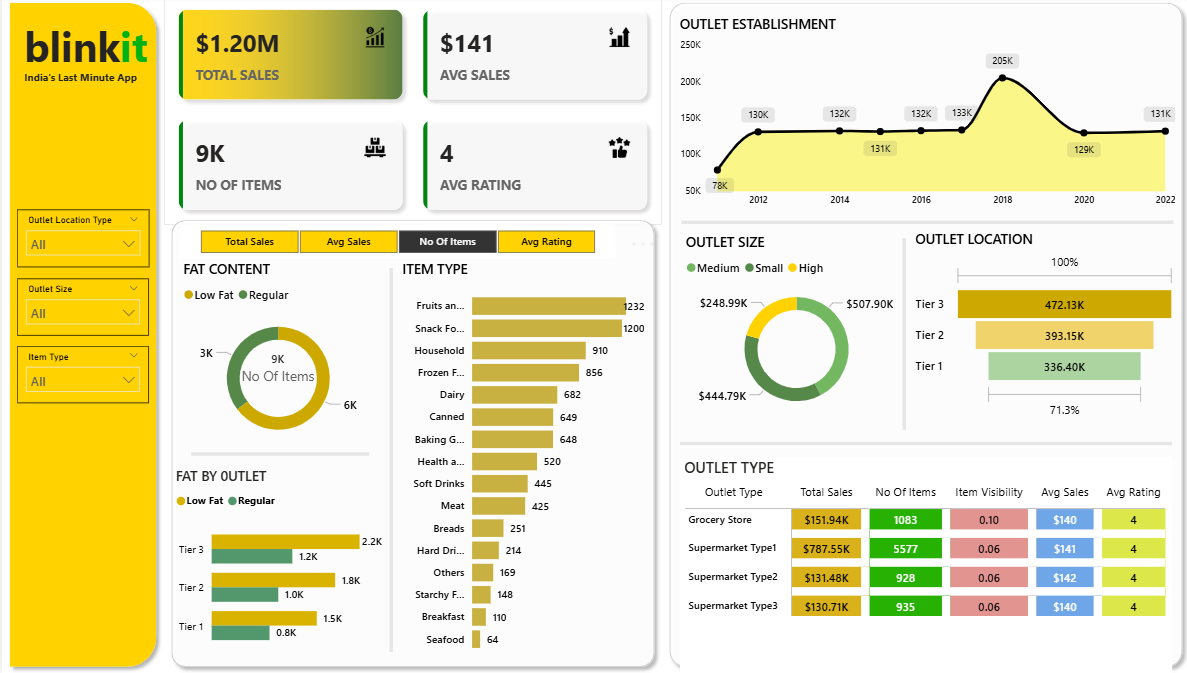

Layout of this report page (visuals, bound fields, positions):
{"tool":"powerbi","page":{"name":"Page 1","canvas":[1400,800],"ordinal":0},"visuals":[{"type":"shape","box":[0,0,190.9,800.6],"z":0},{"type":"textbox","box":[21.2,21.2,201.5,86.6],"z":1000},{"type":"textbox","box":[21.2,81.3,155.5,42.4],"z":2000},{"type":"cardVisual","fields":{"Data":["BlinkIT Grocery Data.Total Sales","BlinkIT Grocery Data.Avg Sales","BlinkIT Grocery Data.No Of Items","BlinkIT Grocery Data.Avg Rating"]},"box":[190.9,0,586.8,270.4],"z":3000},{"type":"shape","box":[190.9,256.3,586.8,544.3],"z":4000},{"type":"donutChart","title":"FAT CONTENT","fields":{"Y":["BlinkIT Grocery Data.No Of Items"],"Category":["BlinkIT Grocery Data.Item Fat Content"]},"box":[208.5,311.1,233.3,229.8],"z":5000},{"type":"slicer","fields":{"Values":["Metrics.Metrics"]},"box":[208.5,270.4,514.3,40.6],"z":6000},{"type":"cardVisual","fields":{"Data":["BlinkIT Grocery Data.No Of Items"]},"box":[258,401.2,134.3,67.2],"z":7000},{"type":"clusteredBarChart","title":"FAT  BY 0UTLET","fields":{"Y":["BlinkIT Grocery Data.No Of Items"],"Category":["BlinkIT Grocery Data.Outlet Location Type"],"Series":["BlinkIT Grocery Data.Item Fat Content"]},"box":[199.7,554.9,252.7,229.8],"z":8000},{"type":"shape","box":[222.7,519.6,210.3,42.4],"z":9000},{"type":"shape","box":[433,321.7,51.3,452.4],"z":10000},{"type":"barChart","title":"ITEM TYPE","fields":{"Y":["BlinkIT Grocery Data.No Of Items"],"Category":["BlinkIT Grocery Data.Item Type"]},"box":[466.6,311.1,295.1,473.6],"z":11000},{"type":"shape","box":[777.6,0,622.1,800.6],"z":12000},{"type":"lineChart","title":"OUTLET ESTABLISHMENT","fields":{"Category":["BlinkIT Grocery Data.Outlet Establishment Year"],"Y":["Sum(BlinkIT Grocery Data.Sales)"]},"box":[793.5,23,593.8,235.1],"z":13000},{"type":"shape","box":[800.6,256.3,579.7,23],"z":14000},{"type":"donutChart","title":"OUTLET SIZE","fields":{"Category":["BlinkIT Grocery Data.Outlet Size"],"Y":["BlinkIT Grocery Data.Total Sales"]},"box":[800.6,279.2,270.4,224.5],"z":15000},{"type":"shape","box":[1037.4,286.3,51.3,226.2],"z":16000},{"type":"funnel","title":"OUTLET LOCATION","fields":{"Y":["Sum(BlinkIT Grocery Data.Sales)"],"Category":["BlinkIT Grocery Data.Outlet Location Type"]},"box":[1071,275.7,316.4,228],"z":17000},{"type":"shape","box":[798.8,507.2,579.7,42.4],"z":18000},{"type":"pivotTable","title":"OUTLET TYPE","fields":{"Rows":["BlinkIT Grocery Data.Outlet Type"],"Values":["BlinkIT Grocery Data.Total Sales","BlinkIT Grocery Data.No Of Items","Avg(BlinkIT Grocery Data.Item Visibility)","BlinkIT Grocery Data.Avg Sales","BlinkIT Grocery Data.Avg Rating"]},"box":[798.8,544.3,579.7,256.3],"z":19000},{"type":"slicer","fields":{"Values":["BlinkIT Grocery Data.Outlet Location Type"]},"box":[18.2,253.4,155.7,67.9],"z":20000},{"type":"slicer","fields":{"Values":["BlinkIT Grocery Data.Outlet Size"]},"box":[17.7,334,155.5,67.2],"z":21000},{"type":"slicer","fields":{"Values":["BlinkIT Grocery Data.Item Type"]},"box":[17.7,413.6,155.5,67.2],"z":22000}]}

Visuals, with their boxes in screenshot pixels (x1, y1, x2, y2), scaled from the page's 1400x800 canvas onto the 1187x673 screenshot:
shape: (0, 0, 162, 672)
textbox: (18, 18, 189, 91)
textbox: (18, 68, 150, 104)
cardVisual - BlinkIT Grocery Data.Total Sales x BlinkIT Grocery Data.Avg Sales: (162, 0, 659, 227)
shape: (162, 216, 659, 672)
"FAT CONTENT" donutChart: (177, 262, 375, 455)
slicer - Metrics.Metrics: (177, 227, 613, 262)
cardVisual - BlinkIT Grocery Data.No Of Items: (219, 338, 333, 394)
"FAT  BY 0UTLET" clusteredBarChart: (169, 467, 384, 660)
shape: (189, 437, 367, 473)
shape: (367, 271, 411, 651)
"ITEM TYPE" barChart: (396, 262, 646, 660)
shape: (659, 0, 1186, 672)
"OUTLET ESTABLISHMENT" lineChart: (673, 19, 1176, 217)
shape: (679, 216, 1170, 235)
"OUTLET SIZE" donutChart: (679, 235, 908, 424)
shape: (880, 241, 923, 431)
"OUTLET LOCATION" funnel: (908, 232, 1176, 424)
shape: (677, 427, 1169, 462)
"OUTLET TYPE" pivotTable: (677, 458, 1169, 672)
slicer - BlinkIT Grocery Data.Outlet Location Type: (15, 213, 147, 270)
slicer - BlinkIT Grocery Data.Outlet Size: (15, 281, 147, 338)
slicer - BlinkIT Grocery Data.Item Type: (15, 348, 147, 404)
